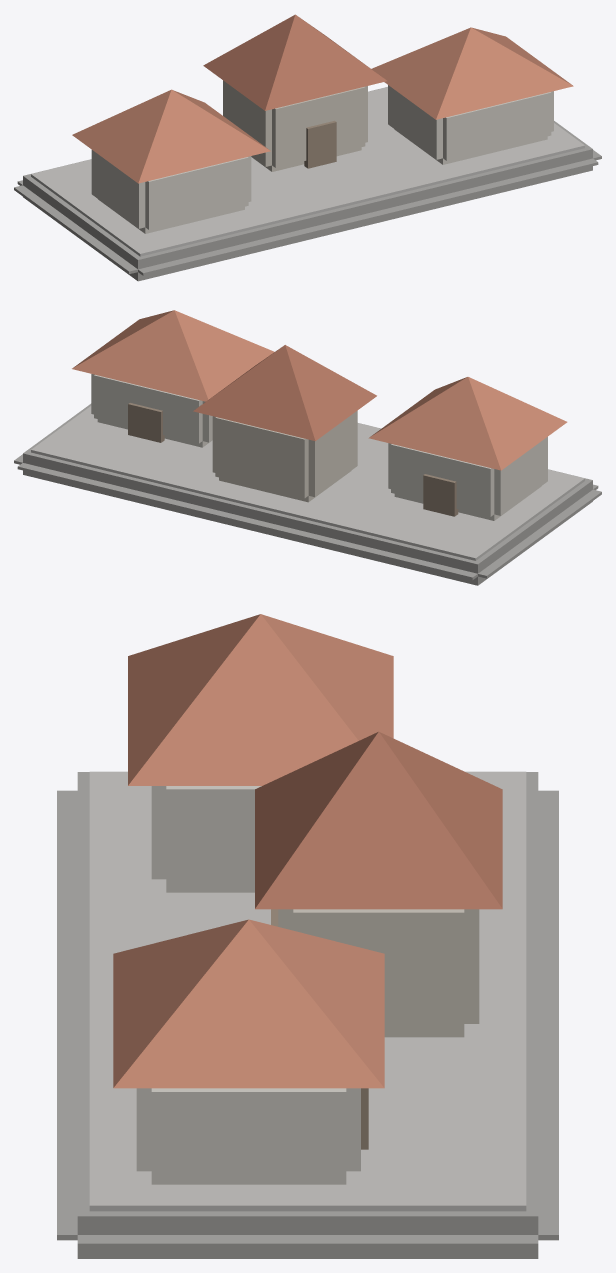
The model's file is Settlement_Town.glb.
The picture shows the model from 3 angles, top to bottom: view 1: azimuth 30°, elevation 25°; view 2: azimuth 150°, elevation 25°; view 3: azimuth 270°, elevation 25°; orthographic projection. The views are drawn at different scales.
Visible parts, largest first — view 1: geometry_0; view 2: geometry_0; view 3: geometry_0.
Part boxes in pixels (x1=…): geometry_0: x1=14, y1=14, x2=601, y2=281; geometry_0: x1=14, y1=310, x2=601, y2=585; geometry_0: x1=57, y1=614, x2=558, y2=1258.
Size of the model in its own units: 3.7 by 1.16 by 1.7.
